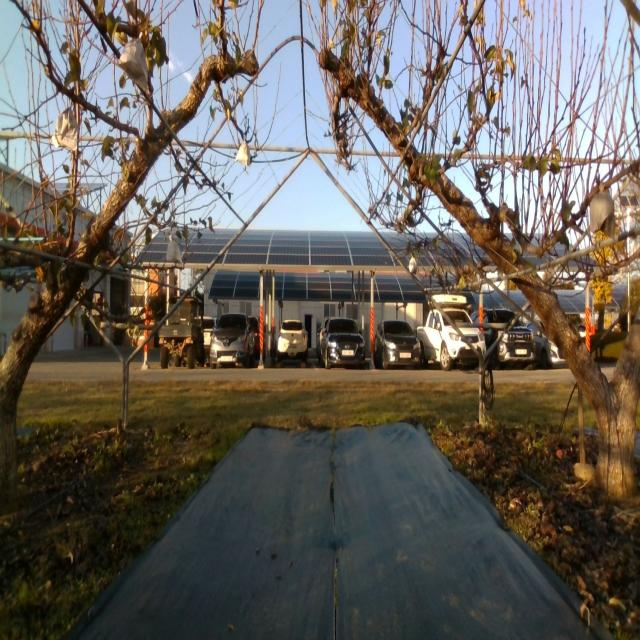pearbags: (118, 38, 149, 94), (590, 192, 616, 237), (54, 109, 78, 151), (235, 140, 250, 166), (167, 240, 182, 264)
